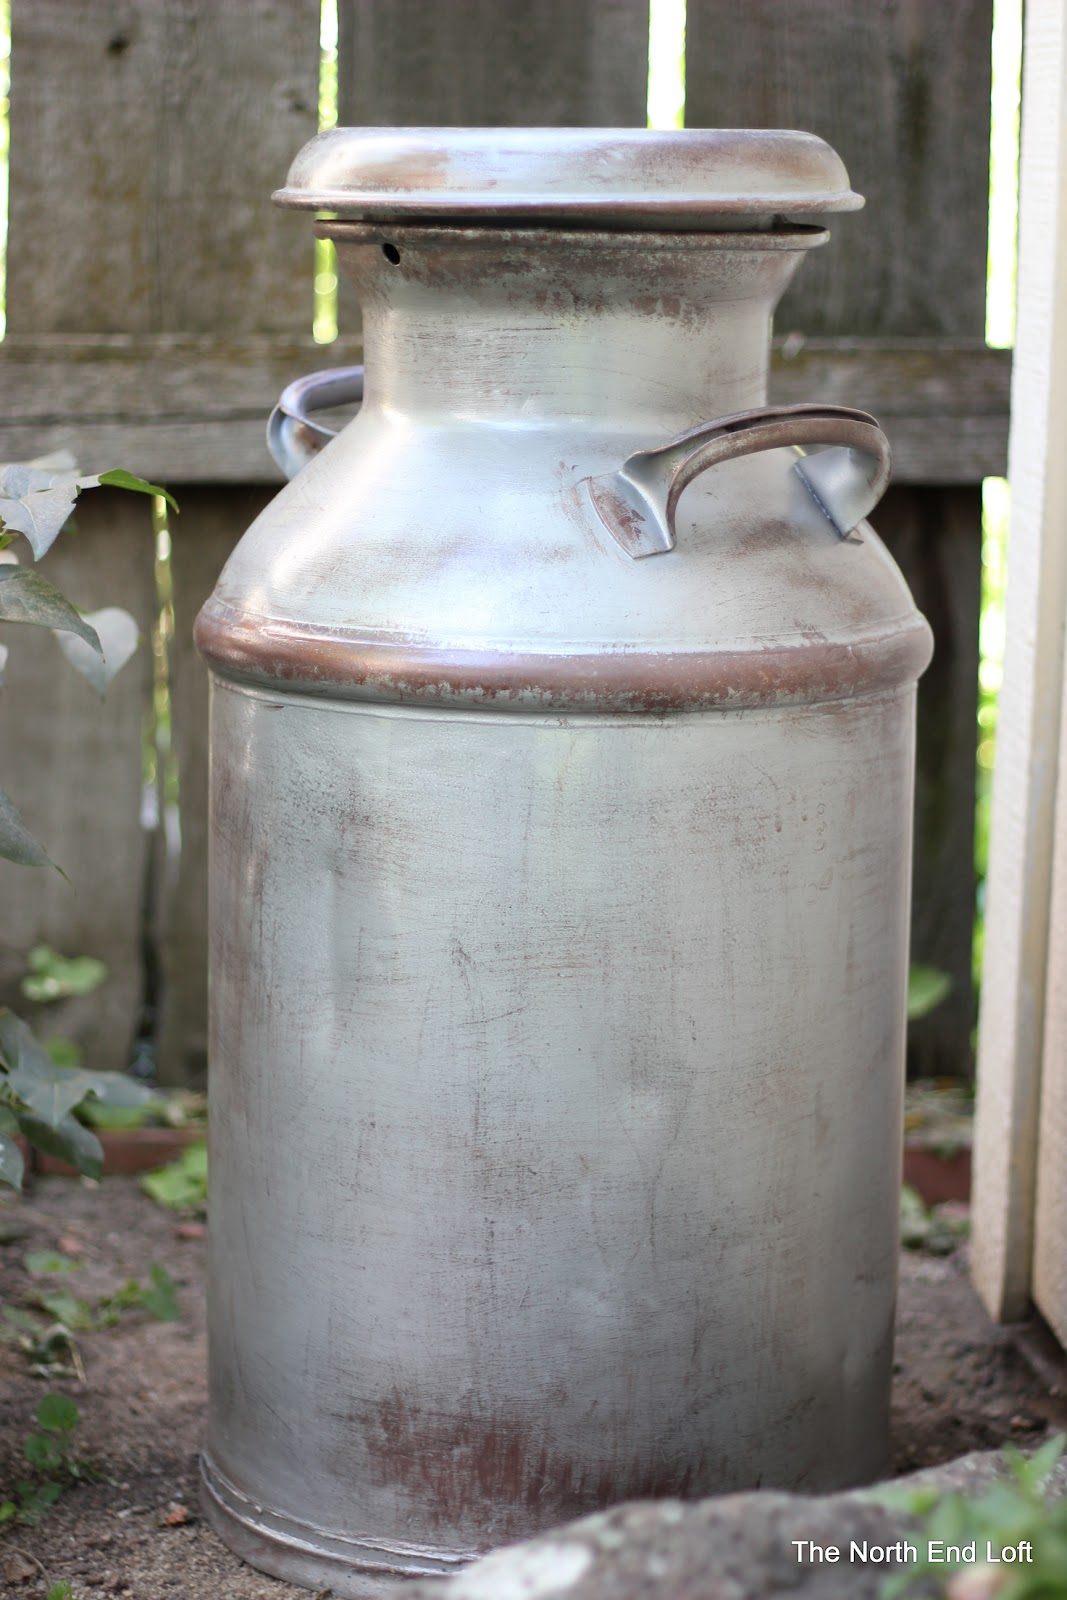metal: (177, 121, 936, 1599)
